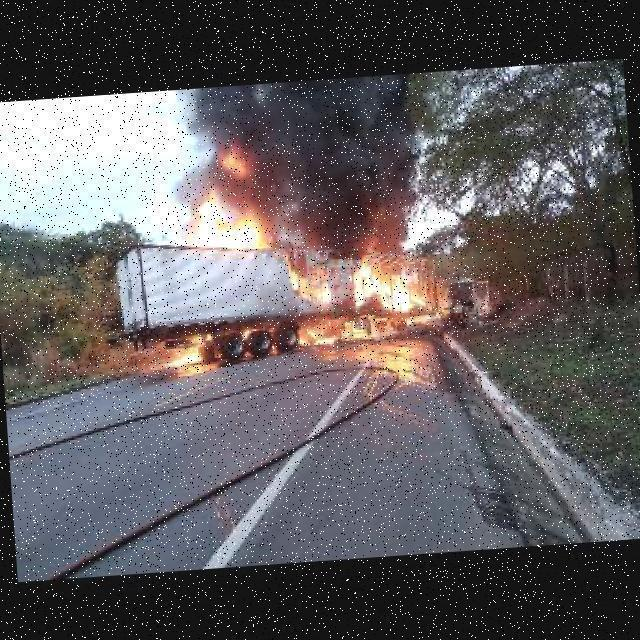Fire: (183, 186, 263, 254), (352, 258, 432, 314), (287, 268, 333, 304), (220, 149, 248, 177), (300, 327, 336, 345), (338, 319, 367, 337), (404, 310, 441, 324), (170, 353, 202, 365)
Smoke: (193, 66, 439, 262)
